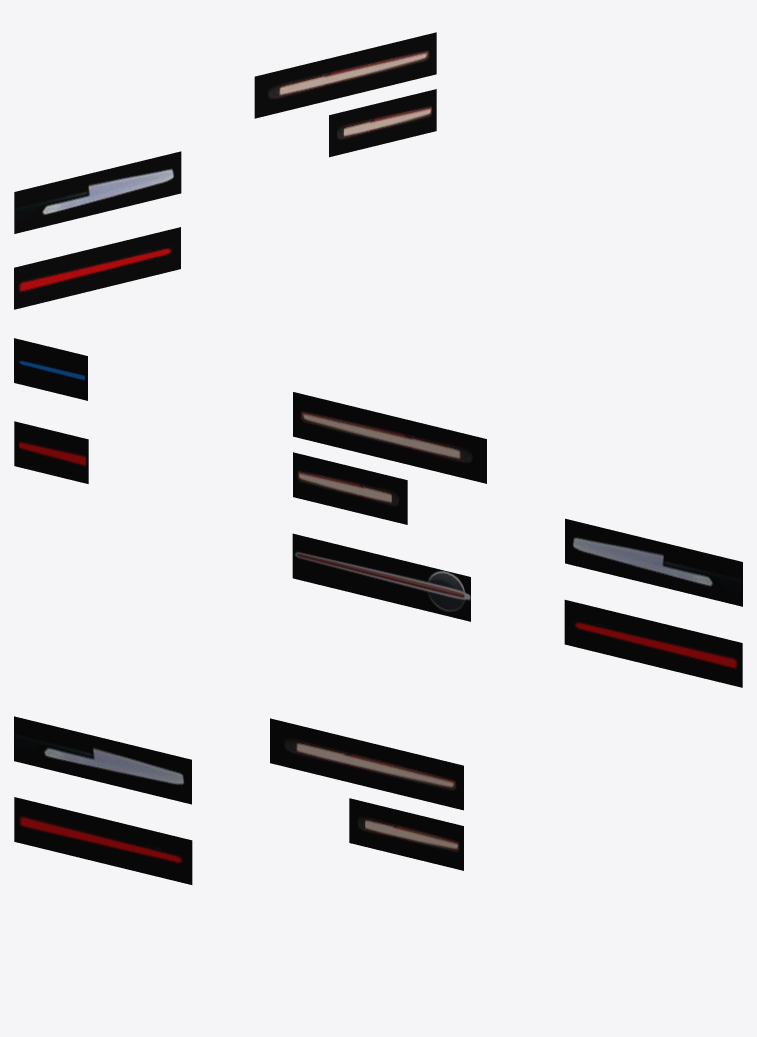
Rendered from arrows2.FBX.
3 views of the same model, one above another, from view 1: azimuth 30°, elevation 25°; view 2: azimuth 150°, elevation 25°; view 3: azimuth 330°, elevation 25° (orthographic). The views are drawn at different scales.
Visible parts, largest first — view 1: bmw001, talisman, vw, bmw; view 2: bmw001, merc, vw, talisman, bmw, Object005, Object004; view 3: bmw001, vw, talisman, bmw.
Part boxes in pixels (bbox=[...]): bmw001: bbox=[254, 32, 436, 118]; talisman: bbox=[14, 151, 181, 233]; vw: bbox=[14, 227, 180, 309]; bmw: bbox=[329, 89, 436, 157]; bmw001: bbox=[293, 392, 486, 483]; merc: bbox=[292, 533, 470, 621]; vw: bbox=[564, 600, 742, 687]; talisman: bbox=[565, 518, 742, 606]; bmw: bbox=[293, 452, 407, 524]; Object005: bbox=[14, 421, 88, 483]; Object004: bbox=[14, 338, 87, 400]; bmw001: bbox=[270, 718, 463, 810]; vw: bbox=[14, 797, 192, 884]; talisman: bbox=[14, 716, 191, 804]; bmw: bbox=[349, 798, 463, 870].
Size of the model in its own units: 3.08 by 0.1713 by 0.7284.
